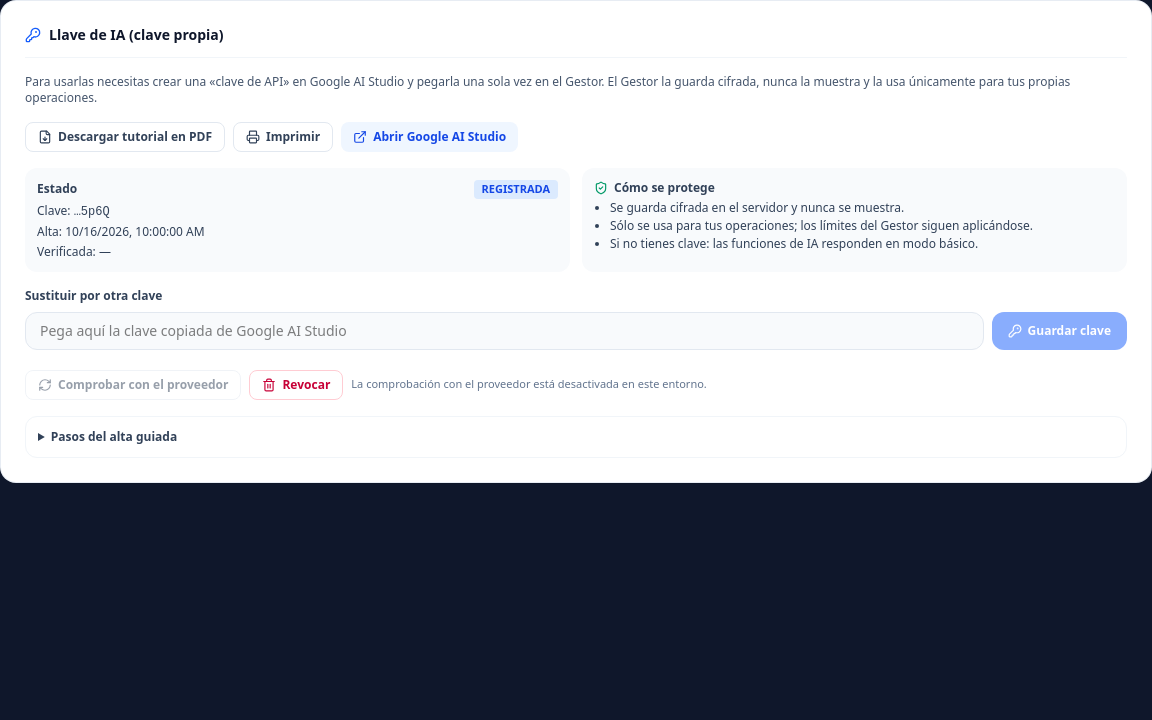
Test: AltaGuiadaLlaveIA · alta › SIN_CAMBIOS y errores del servidor (422 formato, 409 duplicada) se muestran sin romper
Type "AIzaSyA1b2C3d4E5f6G7h8I9j0K1l2M3n4O5p6Q" into the password field labelled "Sustituir por otra clave". click: (504, 331)
box: [25, 312, 984, 350]
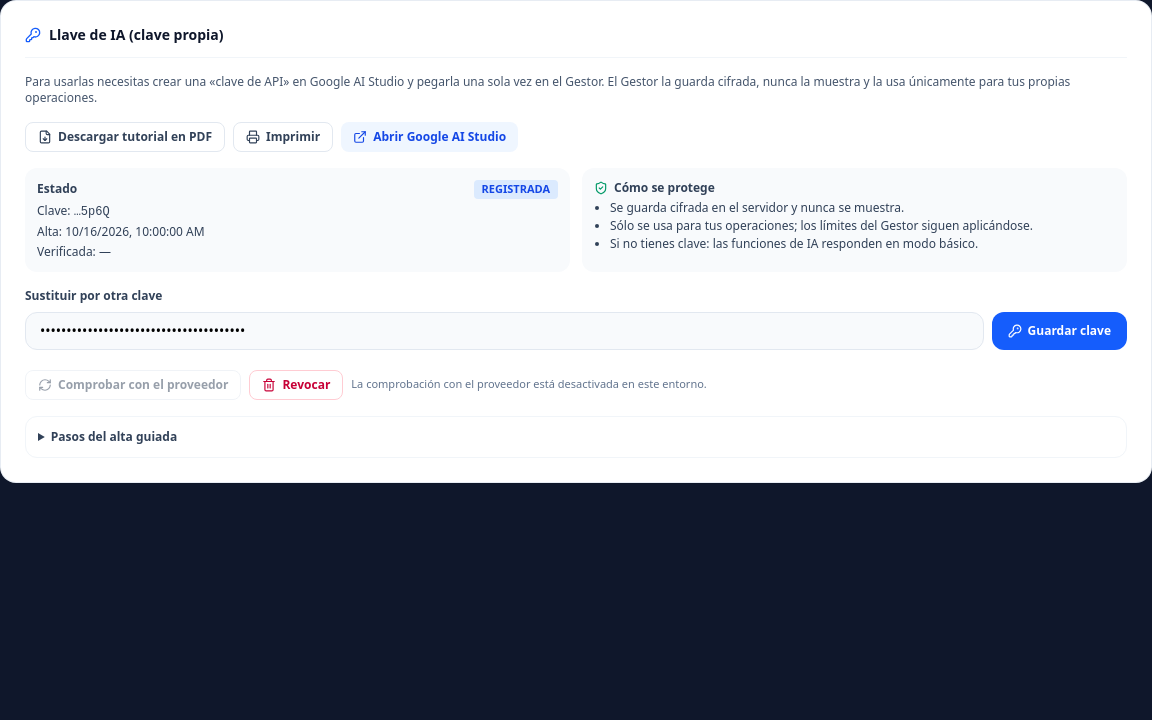
Click the button "Guardar clave". click: (1059, 331)
box: [992, 312, 1127, 350]
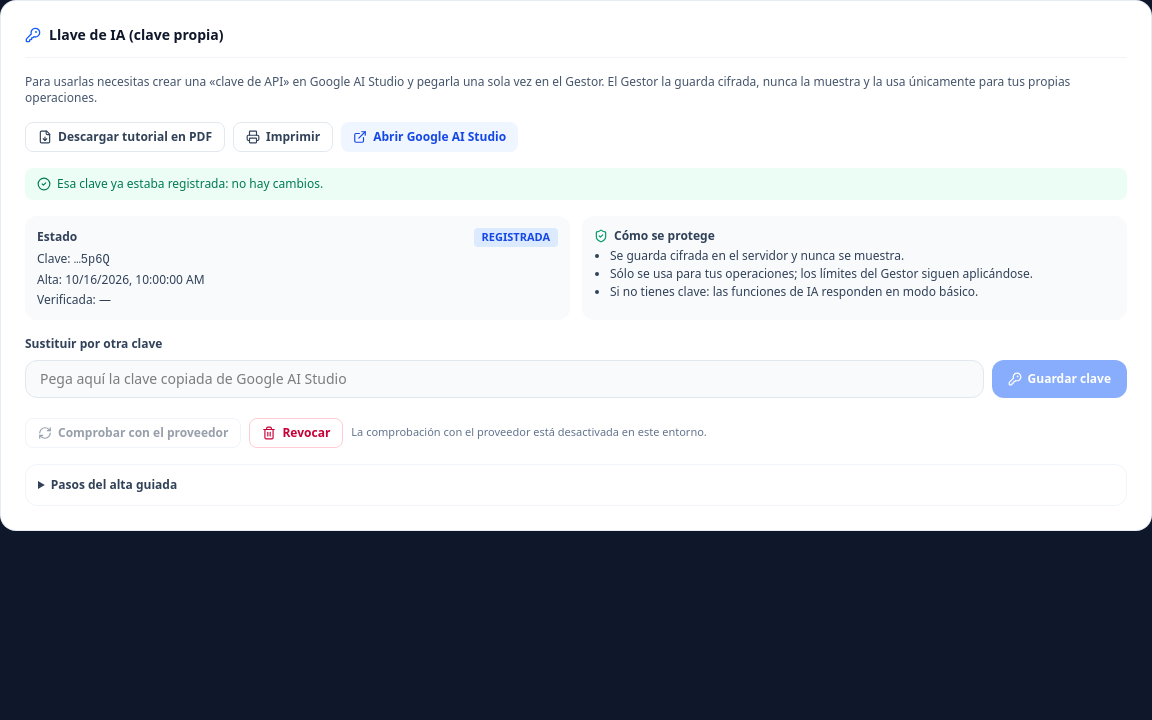
expect the text "Esa clave ya estaba registrada: no hay cambios." is shown: met, box [25, 168, 1127, 200]
Type "AIzaSyA1b2C3d4E5f6G7h8I9j0K1l2M3n4O5p6Q" into the password field labelled "Sustituir por otra clave". click: (504, 379)
box: [25, 360, 984, 398]
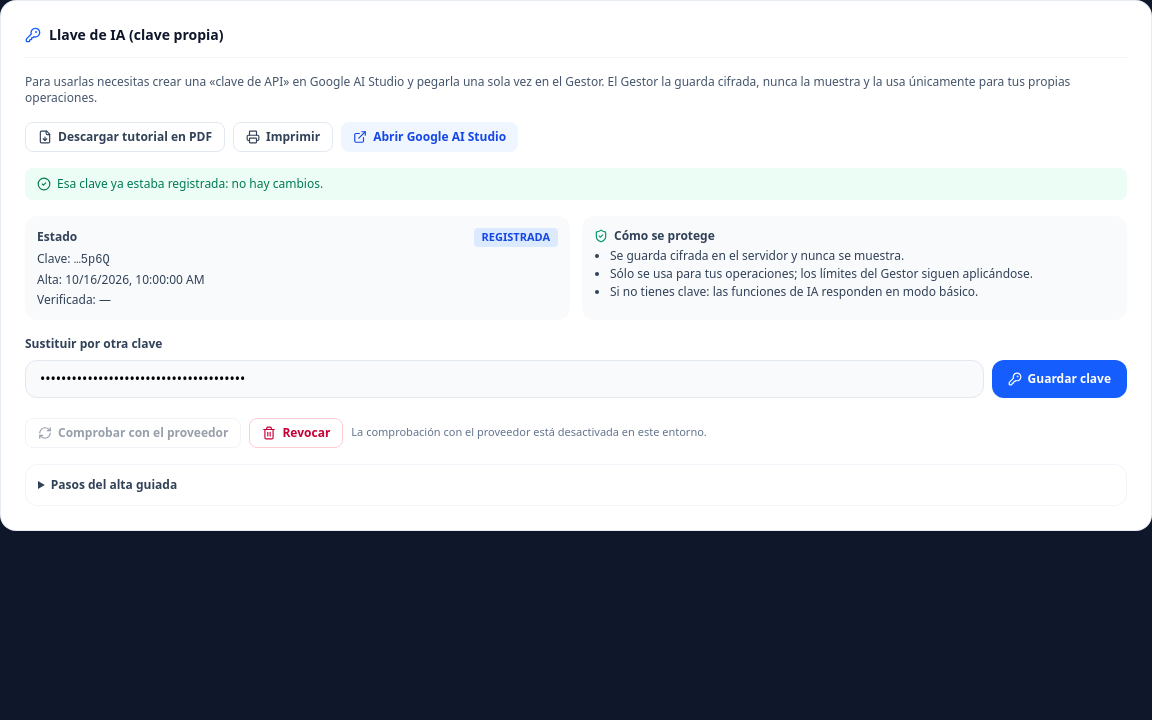
Click the button "Guardar clave". click: (1059, 379)
box: [992, 360, 1127, 398]
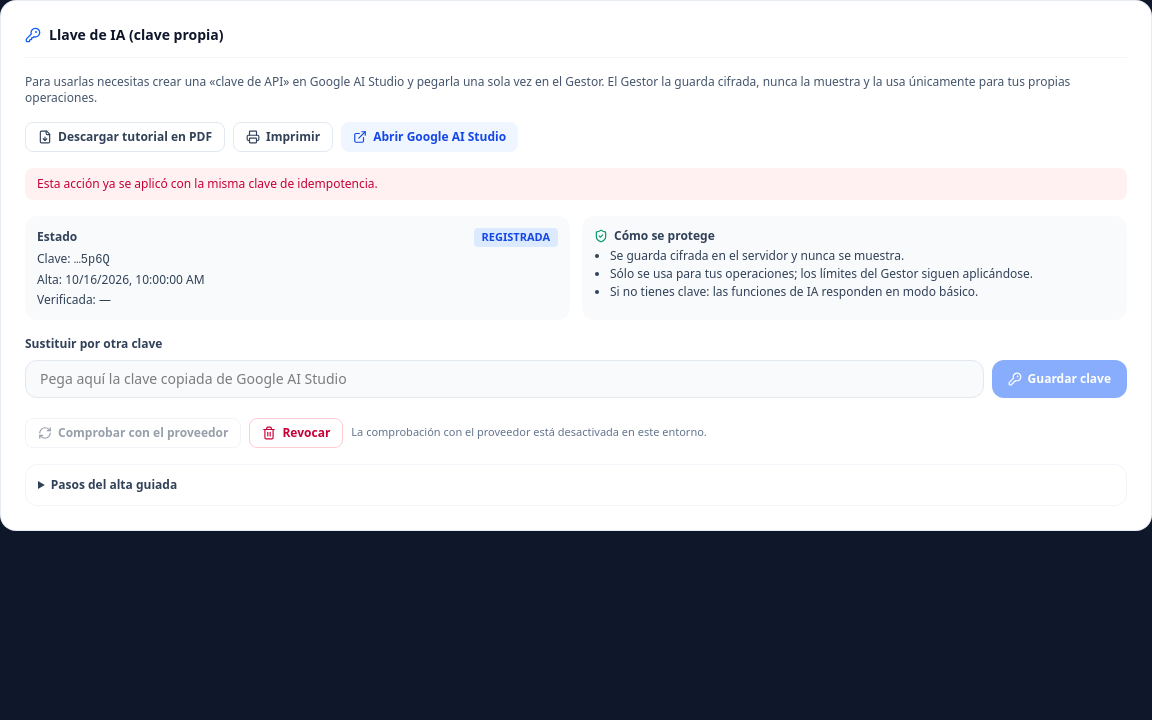
expect the text with test id "estado-llave" reads "REGISTRADA": met, box [482, 229, 550, 244]
expect the message shows "ya se aplicó": met, box [37, 175, 378, 192]
